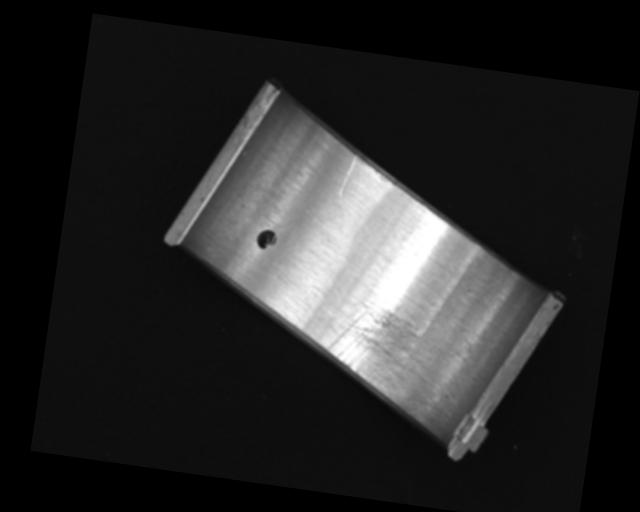blot: (254, 227, 278, 251)
nick: (338, 154, 358, 197)
scratch: (319, 296, 437, 419)
